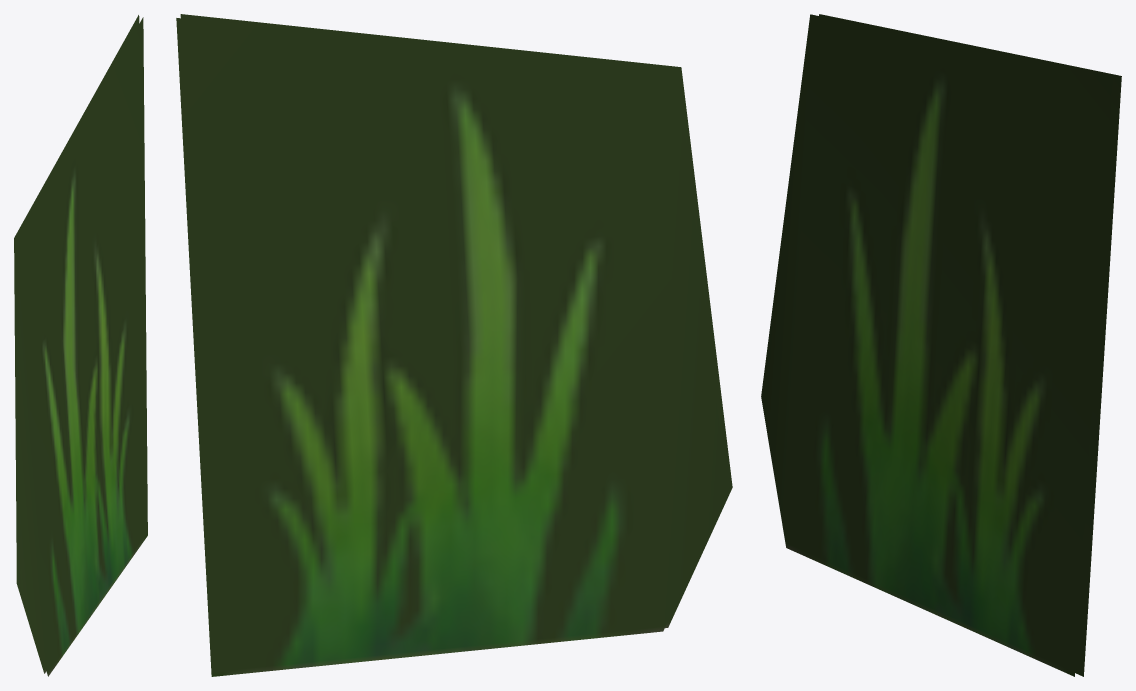
File: ZhiBeixiaocao.FBX
The picture shows the model from 3 angles, left to right: view 1: azimuth 30°, elevation 25°; view 2: azimuth 150°, elevation 25°; view 3: azimuth 270°, elevation 25°; orthographic projection. The views are drawn at different scales.
Parts seen in each view (by area): view 1: Object001; view 2: Object001; view 3: Object001.
Boxes of the visible parts, x1,y1,x2,y2 form: Object001: (14,15,147,676); Object001: (176,14,732,676); Object001: (761,14,1121,676).
Size of the model in its own units: 14.36 by 13.86 by 25.74.
